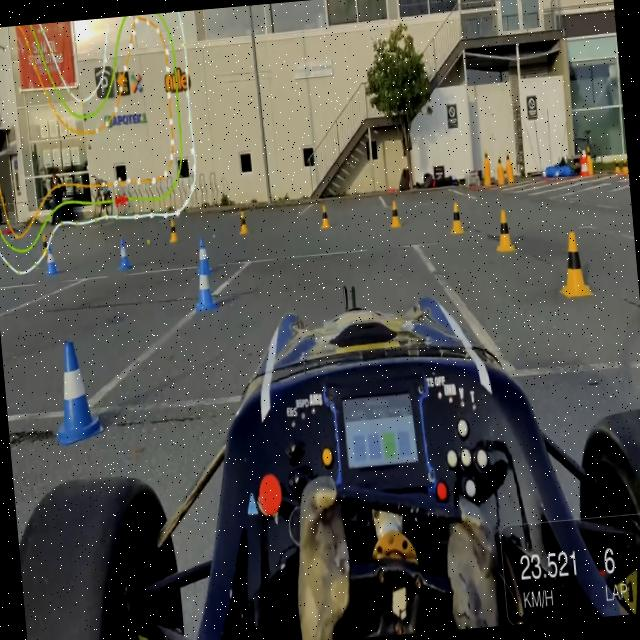blue_cone: (50, 336, 106, 448), (192, 258, 218, 313), (195, 236, 214, 276), (115, 238, 132, 272), (44, 242, 60, 275)
yellow_cone: (554, 230, 593, 300), (495, 208, 516, 254), (450, 200, 464, 234), (388, 198, 402, 228), (167, 217, 179, 243), (320, 204, 330, 230), (239, 211, 249, 236)
